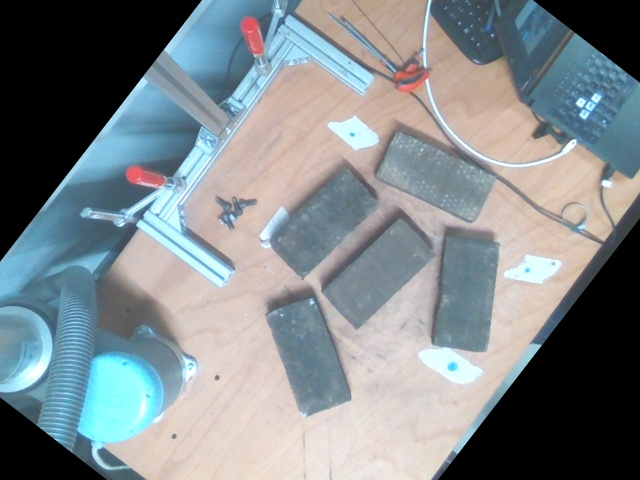brick: (268, 168, 380, 278), (327, 219, 432, 324), (269, 296, 349, 416), (380, 134, 492, 219), (439, 238, 498, 346)
